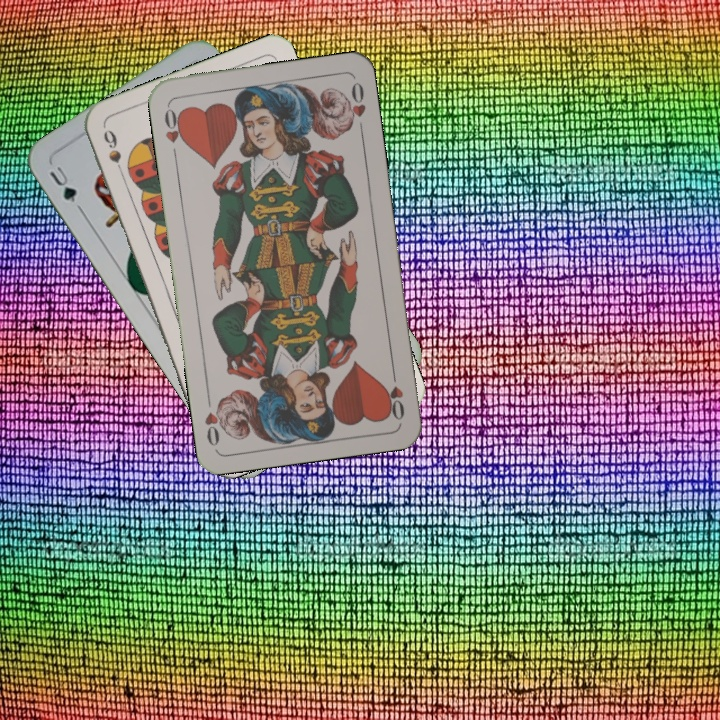GU: (45, 162, 80, 206)
HO: (160, 102, 188, 161), (382, 364, 407, 423)
S9: (99, 125, 128, 182)
